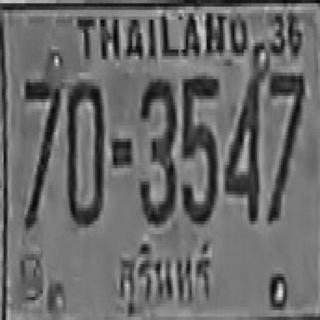N00: (65, 79, 102, 224)
N03: (138, 76, 175, 221)
N04: (223, 69, 260, 221)
N05: (180, 73, 218, 221)
N07: (266, 69, 303, 221), (23, 78, 60, 226)
P68: (119, 237, 215, 318)
